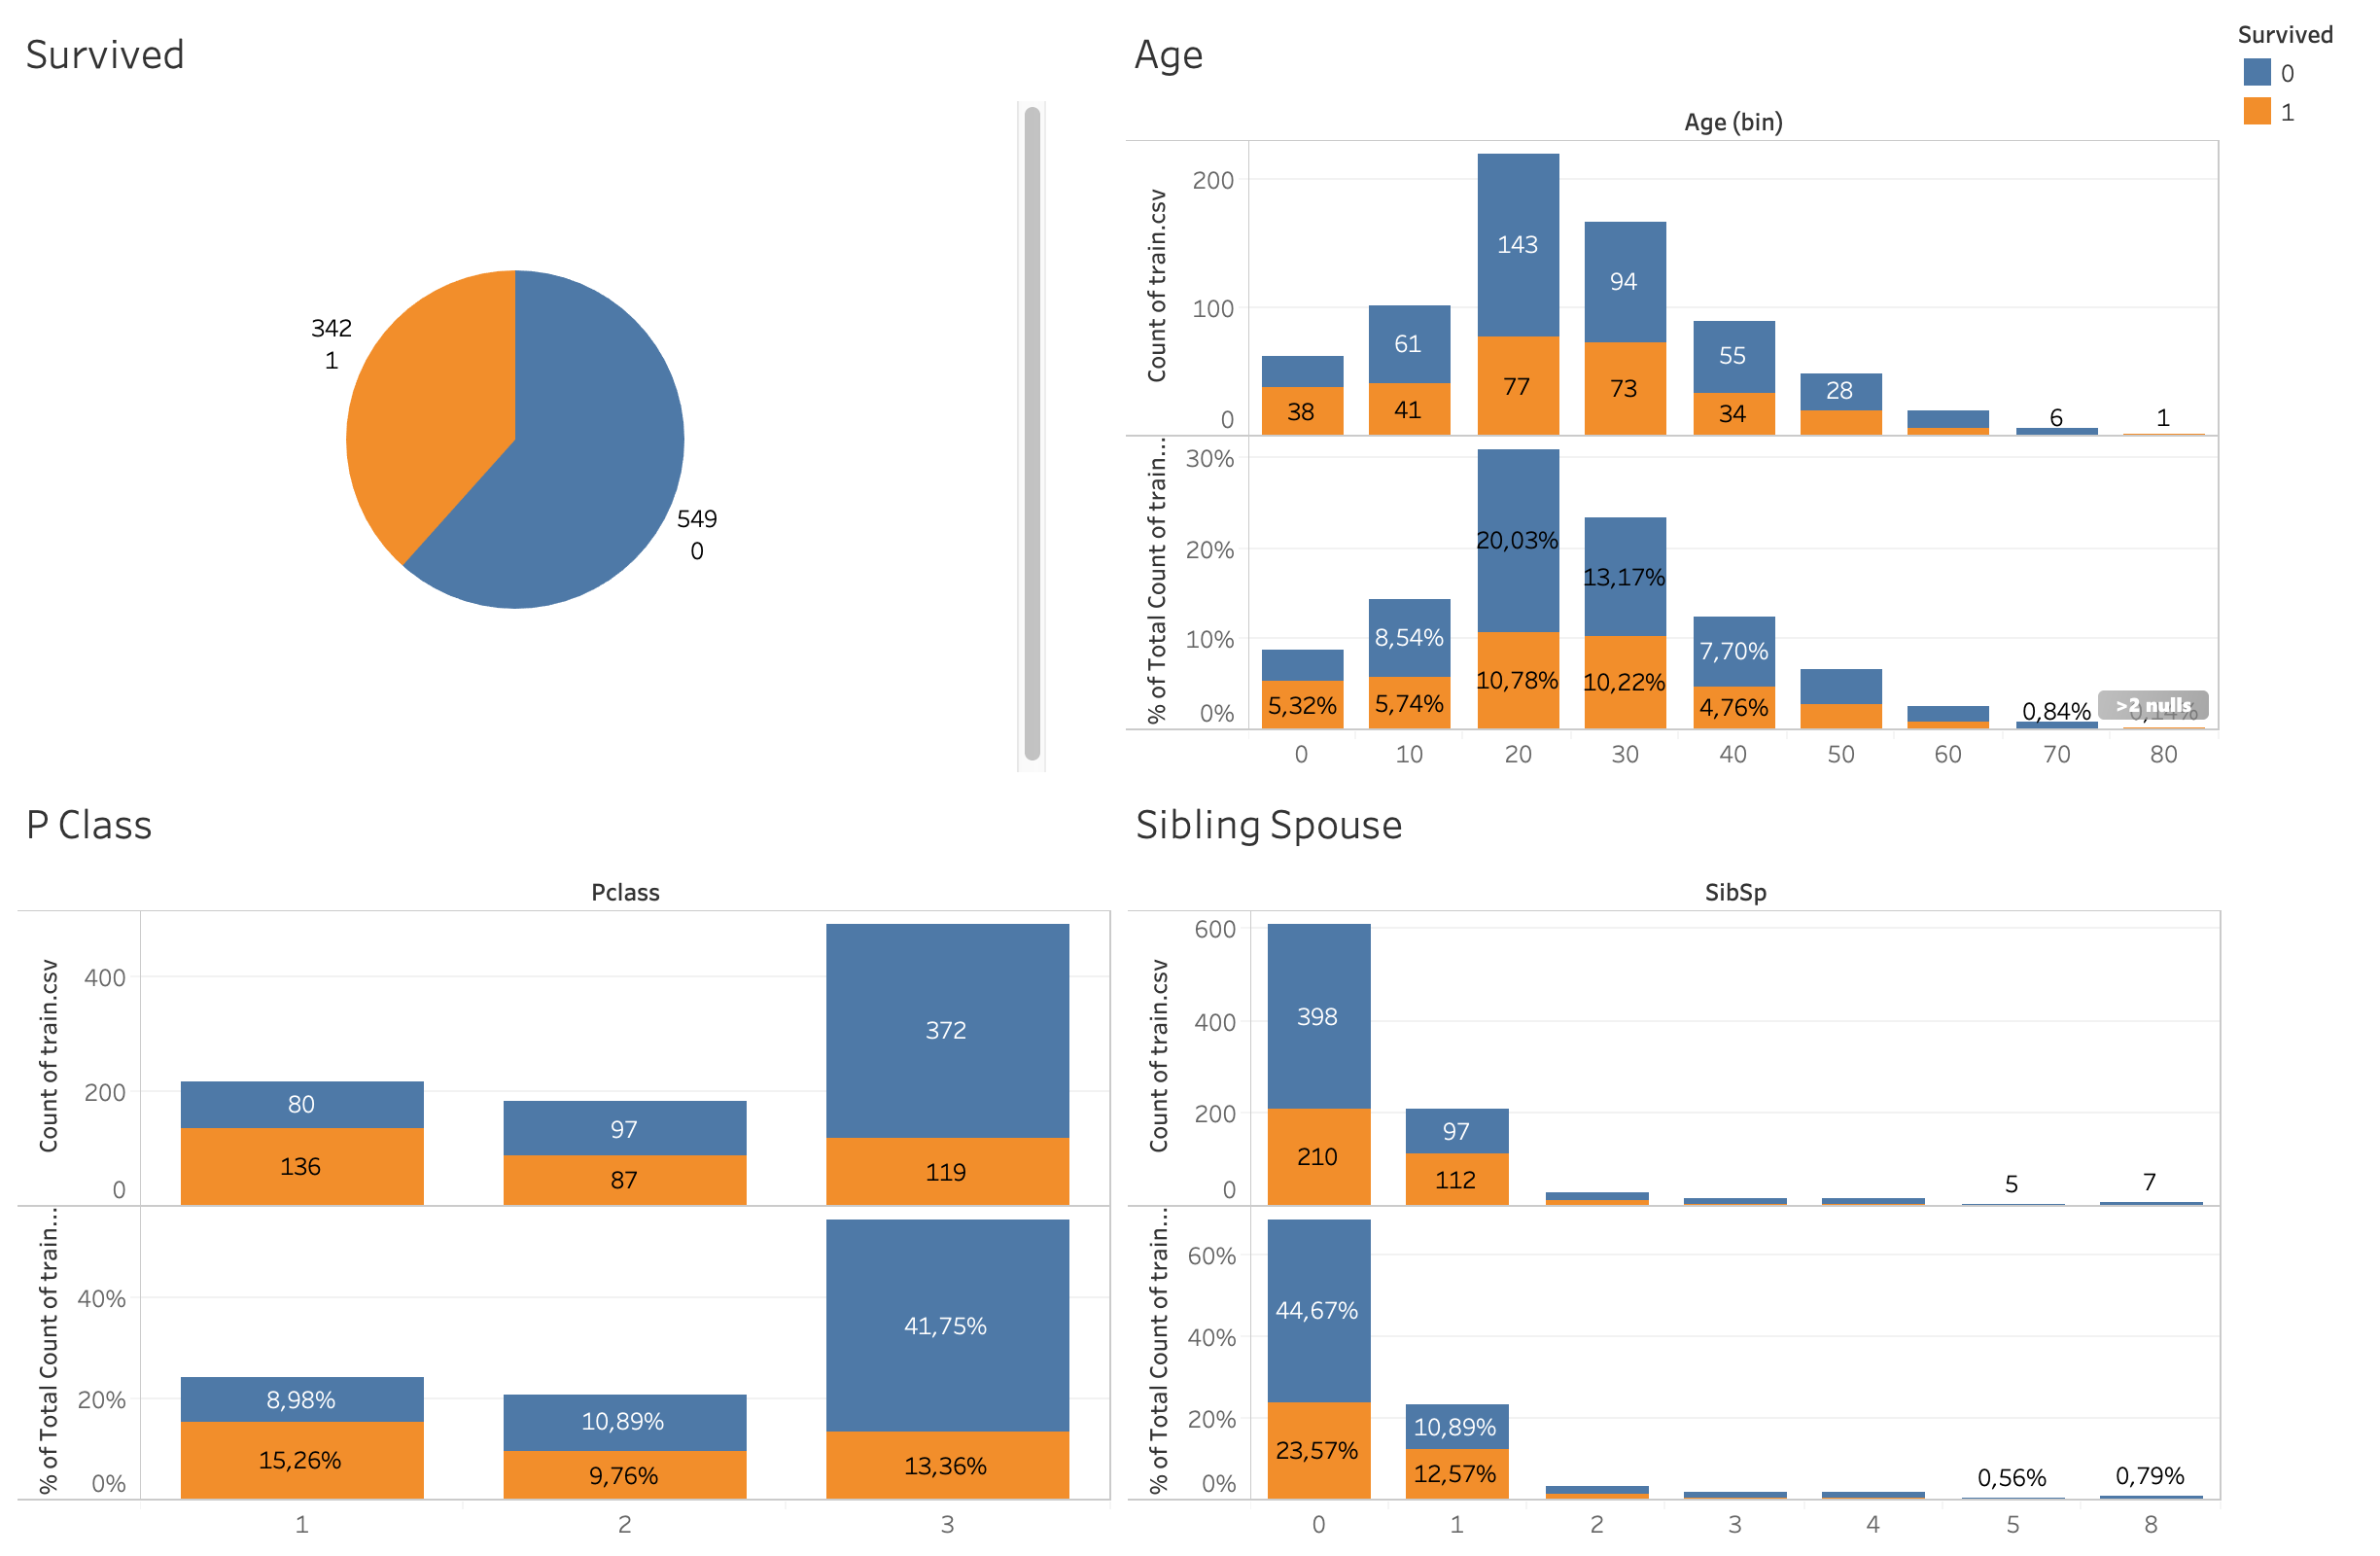

The dashboard page shown, as its layout file describes it:
{"tool":"tableau","page":{"name":"Dashboard 1","canvas":[1000,1000],"units":"permille","ordinal":0},"visuals":[{"type":"worksheet","box":[0,0,1000,1000]},{"type":"worksheet","param":"horz","box":[6.5,9.9,987,980.2]},{"type":"worksheet","box":[6.5,9.9,856.8,980.2]},{"type":"worksheet","title":"Survived","mark":"Pie","box":[6.5,9.9,428,490.1]},{"type":"worksheet","title":"Age","mark":"Automatic","rows":["train.csv_FCE59E5404624BD3971865DD3E998994","train.csv_FCE59E5404624BD3971865DD3E998994"],"cols":["Age (bin)"],"box":[434.5,9.9,428.8,490.1]},{"type":"worksheet","param":"vert","box":[863.3,9.9,130.2,980.2]},{"type":"worksheet","title":"Age","mark":"Automatic","rows":["train.csv_FCE59E5404624BD3971865DD3E998994","train.csv_FCE59E5404624BD3971865DD3E998994"],"cols":["Age (bin)"],"param":"[federated.1craw8b1lfy7ej1fupoch12oi3vo].[none:Survived:ok]","box":[863.3,9.9,130.2,81.7]},{"type":"worksheet","title":"P Class","mark":"Automatic","rows":["train.csv_FCE59E5404624BD3971865DD3E998994","train.csv_FCE59E5404624BD3971865DD3E998994"],"cols":["Pclass"],"box":[6.5,500,428.4,490.1]},{"type":"worksheet","title":"Sibling Spouse","mark":"Automatic","rows":["train.csv_FCE59E5404624BD3971865DD3E998994","train.csv_FCE59E5404624BD3971865DD3E998994"],"cols":["SibSp"],"box":[434.9,500,428.4,490.1]}]}

Visuals, with their boxes on the dashboard's canvas, which has no fixed pixel size, in thousandths of its width and height (x1, y1, x2, y2). These are canvas units, not pixel positions in the 2380x1556 screenshot, which may show the page scaled, cropped or inside an application window:
worksheet: select_region(0, 0, 1000, 1000)
worksheet: select_region(6, 10, 994, 990)
worksheet: select_region(6, 10, 863, 990)
"Survived" worksheet (Pie marks): select_region(6, 10, 434, 500)
"Age" worksheet: select_region(434, 10, 863, 500)
worksheet: select_region(863, 10, 994, 990)
"Age" worksheet: select_region(863, 10, 994, 92)
"P Class" worksheet: select_region(6, 500, 435, 990)
"Sibling Spouse" worksheet: select_region(435, 500, 863, 990)
